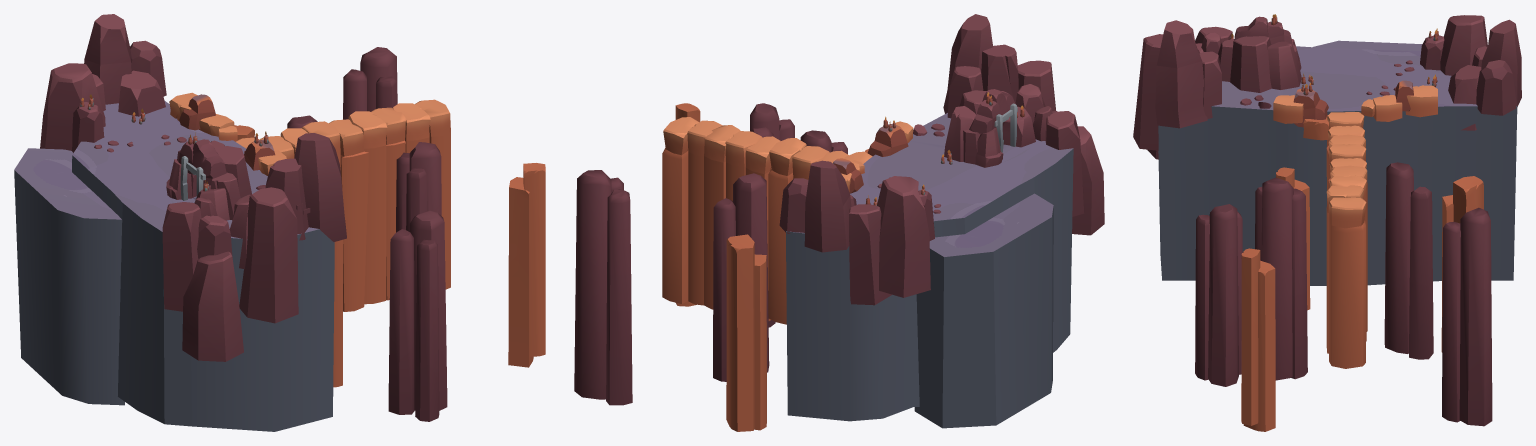
The model's file is Cave Bridge level (2).fbx.
3 renders of one model, left to right at view 1: azimuth 30°, elevation 25°; view 2: azimuth 150°, elevation 25°; view 3: azimuth 270°, elevation 25°, orthographic. The views are drawn at different scales.
Parts seen in each view (by area): view 1: Plane.007, Cube.100, Circle.043, Circle.039, Cube.136, Cube.164, Cube.101, Circle.047, Cube.102, Circle.035, Circle.042, Cube.098 (+22 smaller); view 2: Plane.007, Cube.096, Cube.088, Circle.042, Cube.099, Cube.104, Circle.038, Cube.120, Circle.040, Cube.103, Cube.095, Circle.039 (+20 smaller); view 3: Plane.007, Cube.096, Cube.099, Cube.100, Cube.098, Cube.104, Circle.047, Cube.102, Cube.101, Circle.043, Circle.042, Circle.063 (+25 smaller).
Part boxes in pixels (<box>): Plane.007: <box>14,100,334,431</box>; Cube.100: <box>388,210,447,421</box>; Circle.043: <box>239,187,298,323</box>; Circle.039: <box>182,251,243,361</box>; Cube.136: <box>329,119,368,311</box>; Cube.164: <box>348,111,387,304</box>; Cube.101: <box>508,177,533,367</box>; Circle.047: <box>294,133,346,241</box>; Cube.102: <box>523,163,545,356</box>; Circle.035: <box>162,202,201,311</box>; Circle.042: <box>40,63,105,150</box>; Cube.098: <box>396,142,441,232</box>; Plane.007: <box>786,113,1073,428</box>; Cube.096: <box>574,170,632,405</box>; Cube.088: <box>726,234,755,431</box>; Circle.042: <box>877,176,930,297</box>; Cube.099: <box>713,173,769,381</box>; Cube.104: <box>662,117,698,303</box>; Circle.038: <box>804,160,851,252</box>; Cube.120: <box>768,138,806,324</box>; Circle.040: <box>849,204,891,305</box>; Cube.103: <box>687,120,722,305</box>; Cube.095: <box>704,125,740,309</box>; Circle.039: <box>1072,126,1104,235</box>; Plane.007: <box>1158,40,1517,285</box>; Cube.096: <box>1442,207,1492,426</box>; Cube.099: <box>1384,162,1433,359</box>; Cube.100: <box>1195,204,1242,386</box>; Cube.098: <box>1255,177,1307,380</box>; Cube.104: <box>1329,197,1366,368</box>; Circle.047: <box>1155,20,1207,128</box>; Cube.102: <box>1241,248,1260,425</box>; Cube.101: <box>1243,260,1275,431</box>; Circle.043: <box>1133,34,1163,150</box>; Circle.042: <box>1440,15,1487,75</box>; Circle.063: <box>1230,36,1271,92</box>.
Size of the model in its own units: 10.61 by 7.54 by 8.99.
